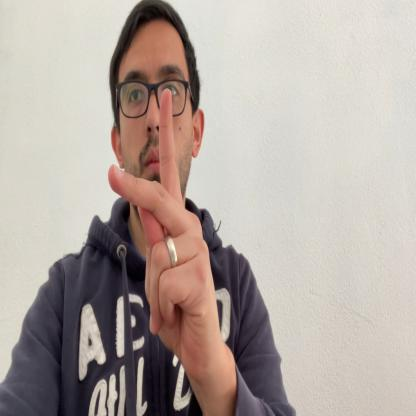P: (109, 88, 216, 383)
